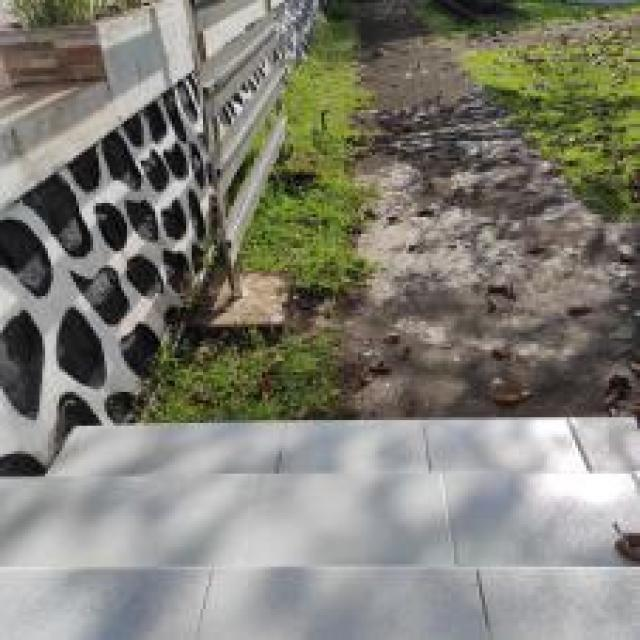downstair: (2, 415, 640, 640)
